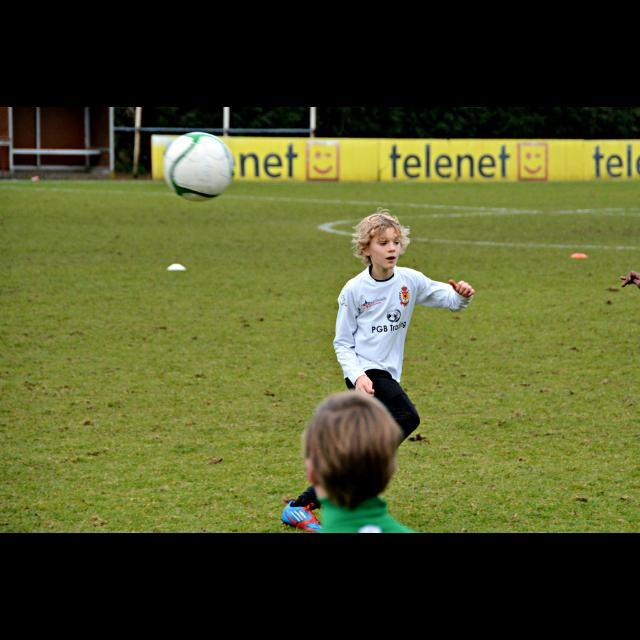Football: (162, 131, 234, 201)
